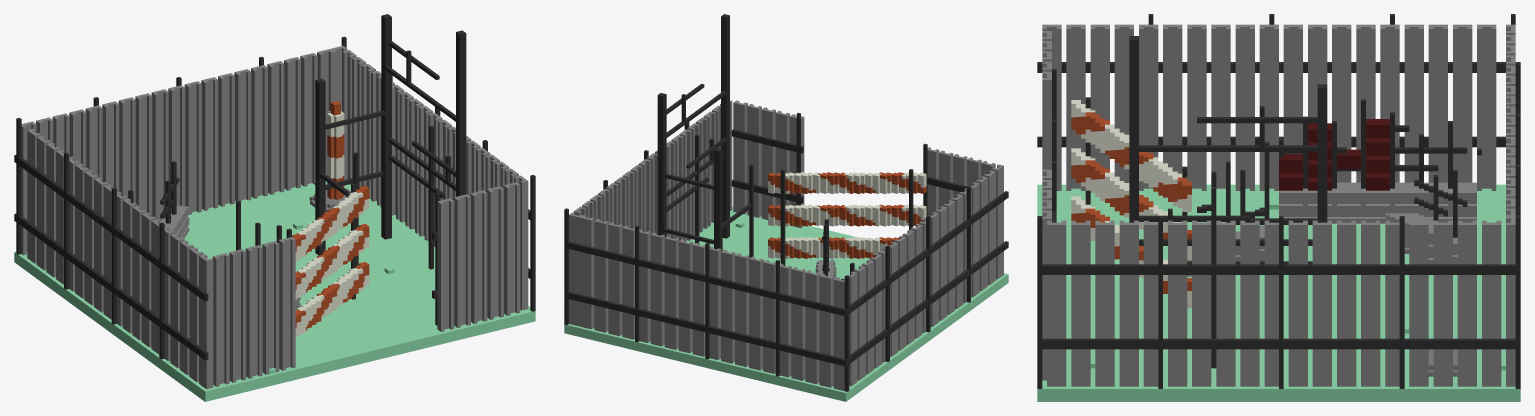
The model's file is Background_A_construction site.FBX.
3 renders of one model, left to right at view 1: azimuth 30°, elevation 25°; view 2: azimuth 150°, elevation 25°; view 3: azimuth 270°, elevation 25°, orthographic. The views are drawn at different scales.
Visible parts, largest first — view 1: zx-0; view 2: zx-0; view 3: zx-0.
Part boxes in pixels (box(x1,y1,x2,y2)): zx-0: box(14, 14, 535, 401); zx-0: box(564, 14, 1008, 401); zx-0: box(1037, 14, 1520, 401).
Size of the model in its own units: 10 by 7.8 by 10.
Materials: 1 (1 with a texture image).
